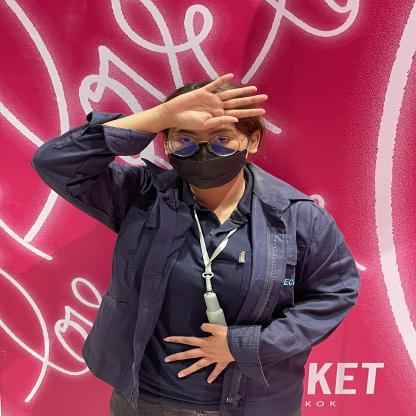Sick: (86, 60, 294, 139)
